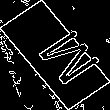M_SW: (17, 22, 93, 88)
